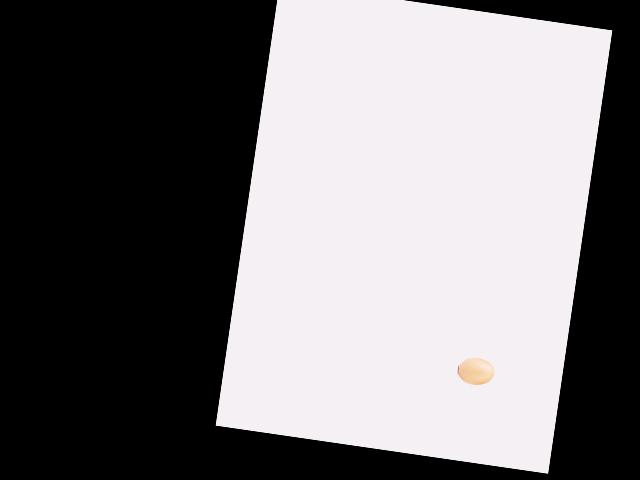egg: (455, 356, 496, 387)
